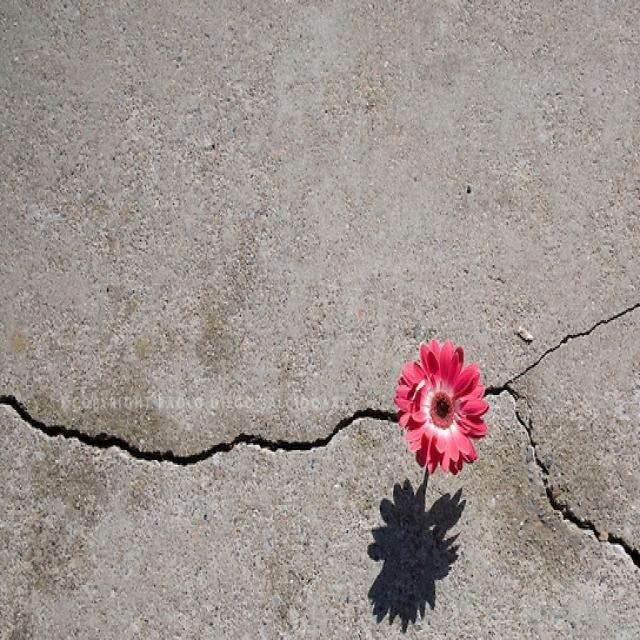Radial: (0, 301, 640, 587)
